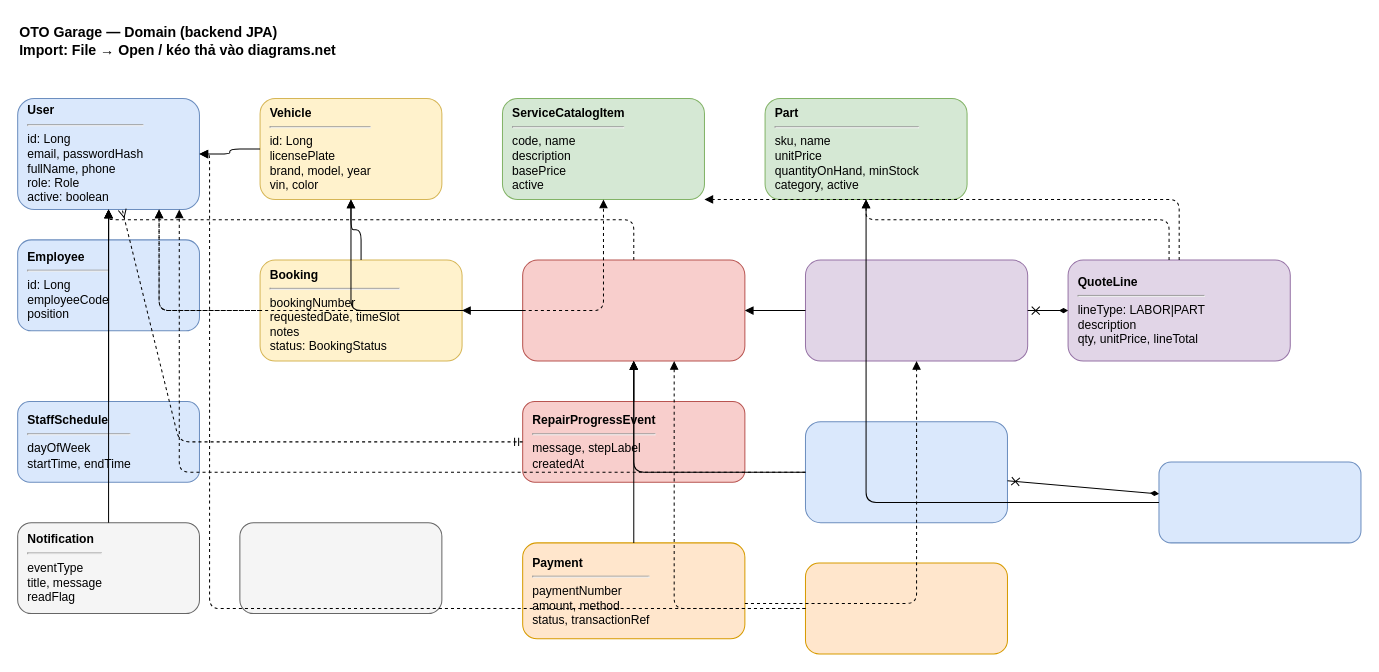
This 1379x672 diagram has some shape labels left out. Here are the shapes that lost their labels. From the top down, the centre of each, then its label:
the point at 633,310: RepairOrder orderNumber status: RepairOrderStatus intakeNotes, progressNotes
the point at 916,310: Quote quoteNumber, version status: QuoteStatus labor/parts/tax/grandTotal
the point at 905,472: PartsRequest requestNumber status adminNote fulfilledAt
the point at 1259,502: PartsRequestLine quantityRequested quantityIssued
the point at 340,568: NotificationSetting eventKey enabled, channel templates
the point at 905,608: ServiceRating rating 1–5 comment (1 repair Order)
